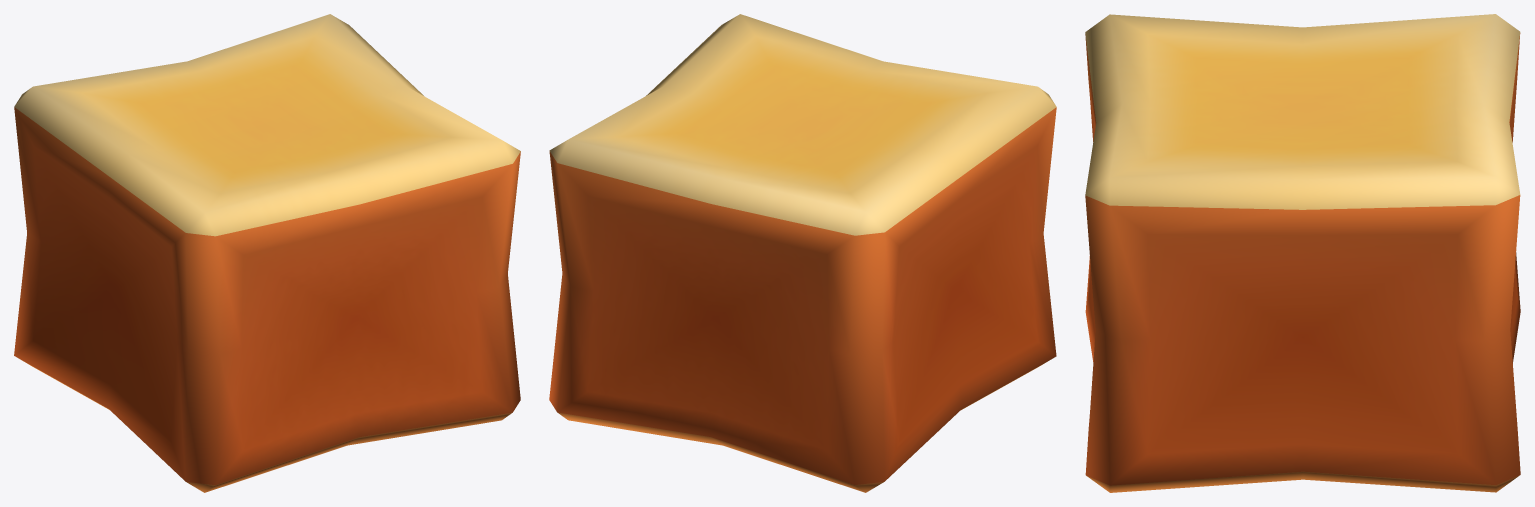
File: m_TurkishDelight_Lokum03.fbx
The picture shows the model from 3 angles, left to right: view 1: azimuth 30°, elevation 25°; view 2: azimuth 150°, elevation 25°; view 3: azimuth 270°, elevation 25°; orthographic projection. The views are drawn at different scales.
Parts seen in each view (by area): view 1: m_TurkishDelight_Lokum03; view 2: m_TurkishDelight_Lokum03; view 3: m_TurkishDelight_Lokum03.
Boxes of the visible parts, left/top/right/bottom form: m_TurkishDelight_Lokum03: left=14, top=14, right=520, bottom=492; m_TurkishDelight_Lokum03: left=549, top=14, right=1056, bottom=492; m_TurkishDelight_Lokum03: left=1085, top=14, right=1520, bottom=492.
Bounding box in the file's own units: 4.9 × 3.93 × 4.9.
